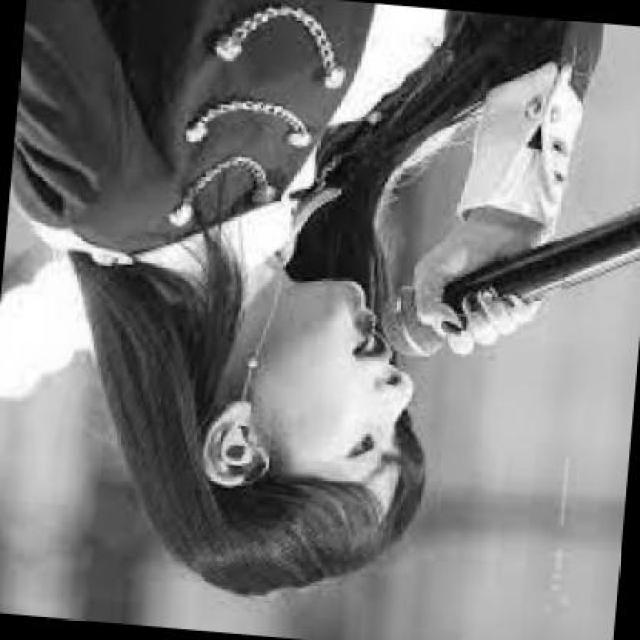earphone: (213, 414, 269, 479)
